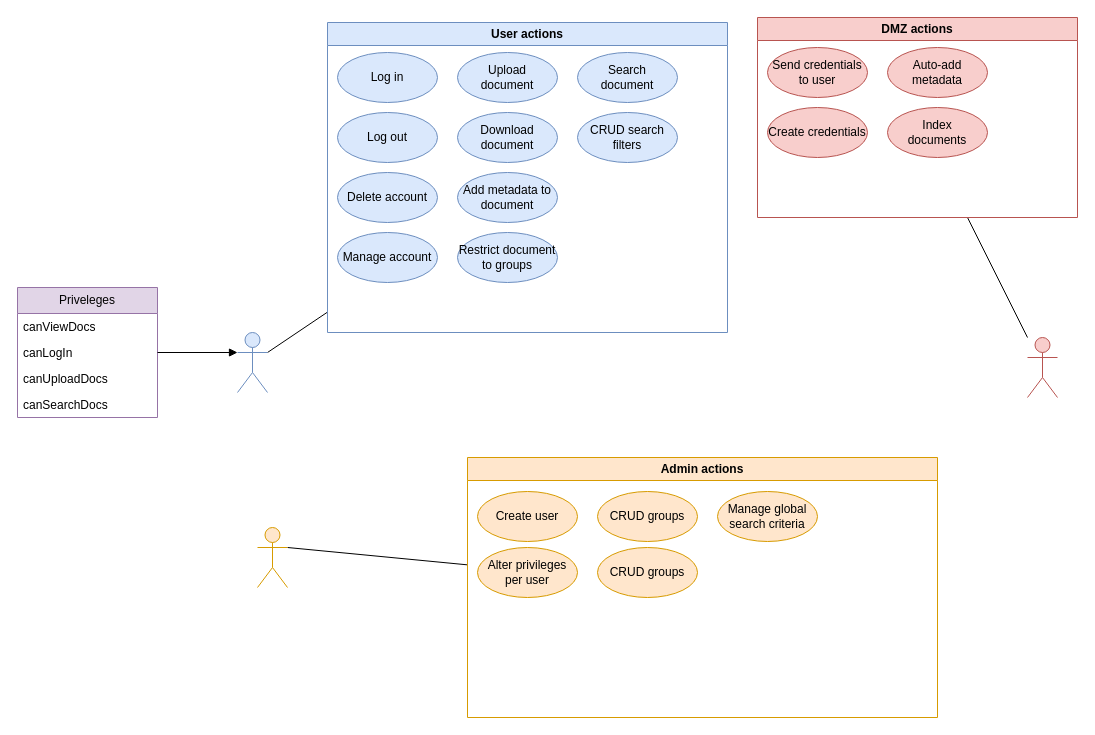
Image size: 1095x735. Some labels were removed from this diagram. The centre of each missing label's shape, as x and y in pixels:
"Admin" belongs at (272,557).
"DMZ" belongs at (1042,367).
"User" belongs at (252,362).
